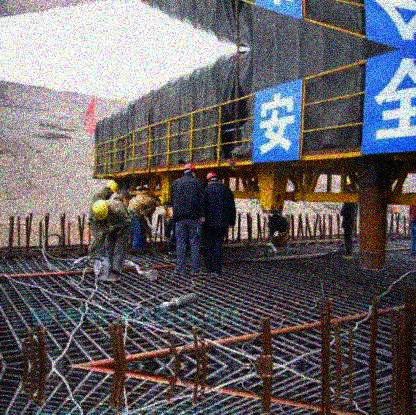helmet: (92, 200, 111, 220), (183, 163, 197, 179), (103, 179, 117, 194), (205, 171, 219, 184), (155, 196, 166, 206)
